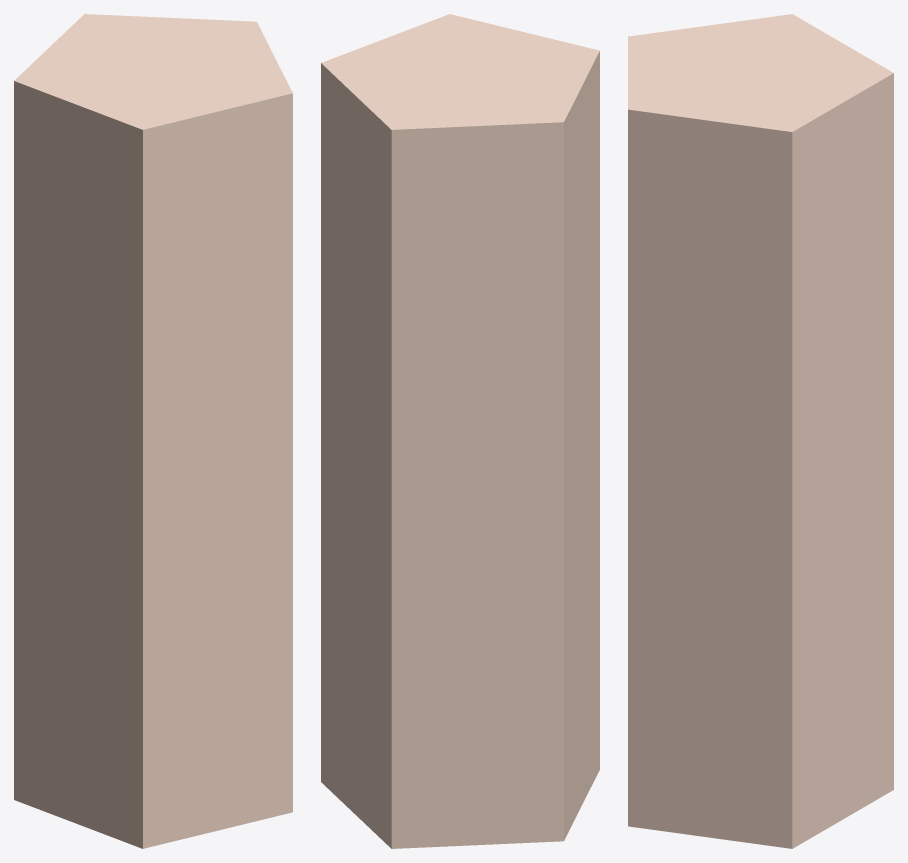
The model's file is legR.obj.
3 renders of one model, left to right at view 1: azimuth 30°, elevation 25°; view 2: azimuth 150°, elevation 25°; view 3: azimuth 270°, elevation 25°, orthographic.
Visible parts, largest first — view 1: 円柱.004; view 2: 円柱.004; view 3: 円柱.004.
Boxes of the visible parts, bbox=[...] form: 円柱.004: bbox=[14, 14, 292, 848]; 円柱.004: bbox=[321, 14, 599, 848]; 円柱.004: bbox=[628, 14, 893, 848].
Bounding box in the file's own units: 0.4213 × 1.19 × 0.4007.
Materials: 1 (1 with a texture image).
